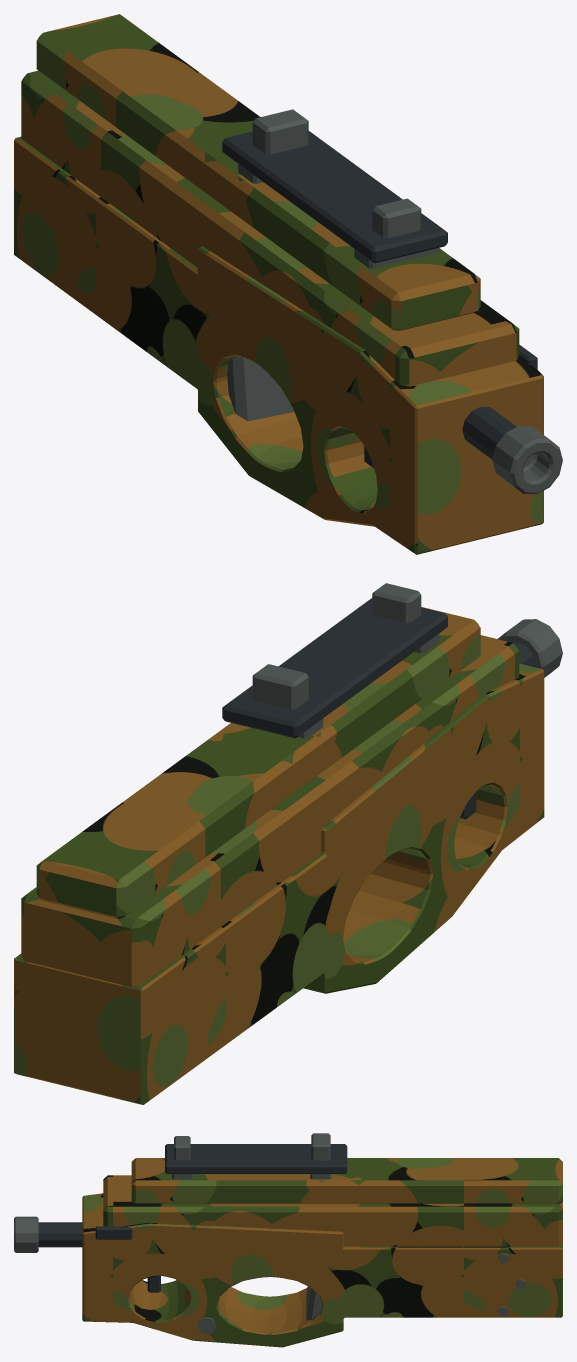
The model's file is P90_RuralCamo.glb.
3 views of the same model, one above another, from view 1: azimuth 30°, elevation 25°; view 2: azimuth 150°, elevation 25°; view 3: azimuth 270°, elevation 25° (orthographic). The views are drawn at different scales.
Visible parts, largest first — view 1: FTF_Weapon_P90_RuralCamo_Mesh; view 2: FTF_Weapon_P90_RuralCamo_Mesh; view 3: FTF_Weapon_P90_RuralCamo_Mesh.
Part boxes in pixels (x1,y1,x2,y2): FTF_Weapon_P90_RuralCamo_Mesh: (14,14,562,554); FTF_Weapon_P90_RuralCamo_Mesh: (14,583,562,1104); FTF_Weapon_P90_RuralCamo_Mesh: (14,1133,562,1347).
Bounding box in the file's own units: 0.2635 × 0.5986 × 1.57.
3 materials, 1 textured.
